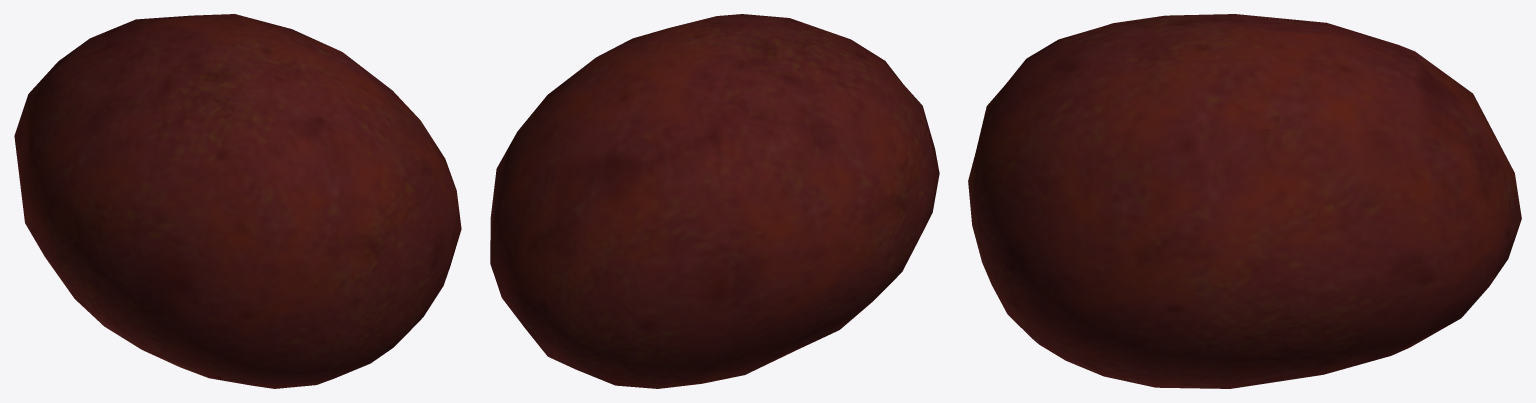
Rendered from Potato_22_potato_c2.obj.
The picture shows the model from 3 angles, left to right: view 1: azimuth 30°, elevation 25°; view 2: azimuth 150°, elevation 25°; view 3: azimuth 270°, elevation 25°; orthographic projection. The views are drawn at different scales.
Bounding box in the file's own units: 0.0736 × 0.0602 × 0.0907.
